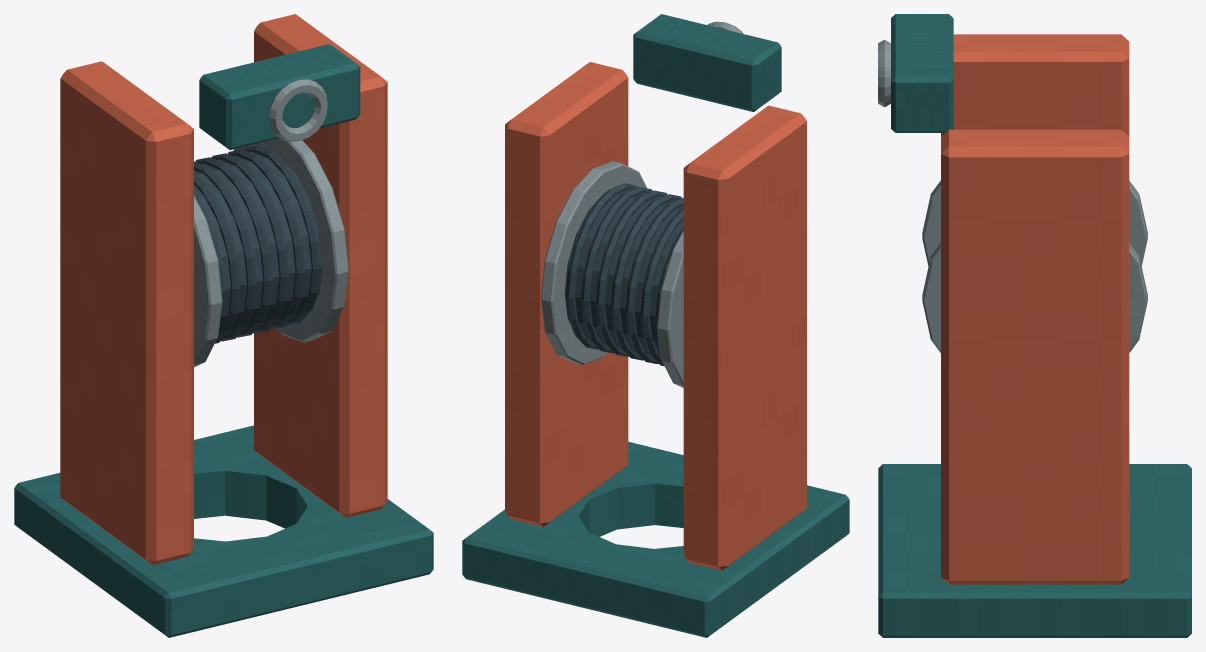
File: winch-lod-1.glb
3 views of the same model, side by side, from view 1: azimuth 30°, elevation 25°; view 2: azimuth 150°, elevation 25°; view 3: azimuth 270°, elevation 25° (orthographic). The views are drawn at different scales.
Parts seen in each view (by area): view 1: winch_lod_1; view 2: winch_lod_1; view 3: winch_lod_1.
Part boxes in pixels (x1,y1,x2,y2): winch_lod_1: [14, 14, 433, 637]; winch_lod_1: [462, 14, 849, 637]; winch_lod_1: [878, 14, 1191, 637].
Size of the model in its own units: 1 by 1.87 by 1.
1 material, 1 textured.
